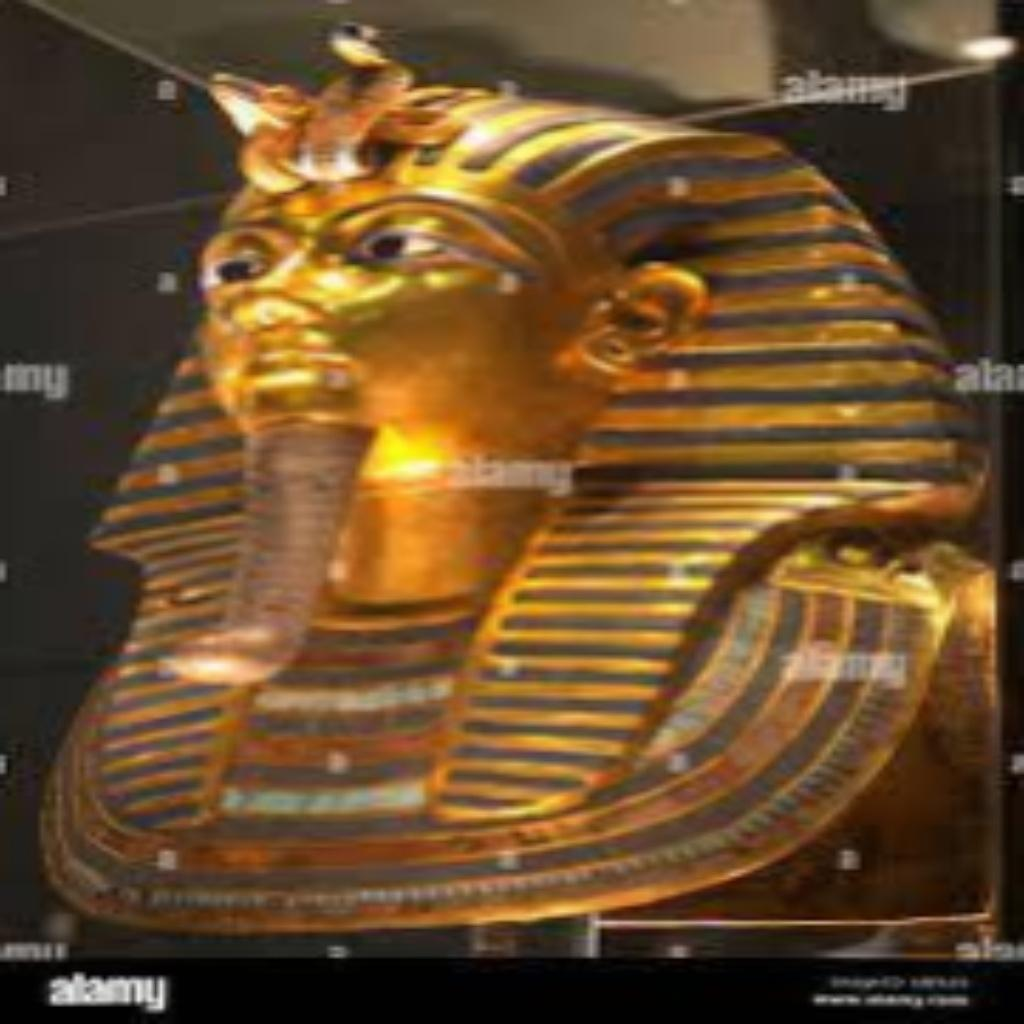Mask of Tutankhamun: (34, 14, 1001, 936)
